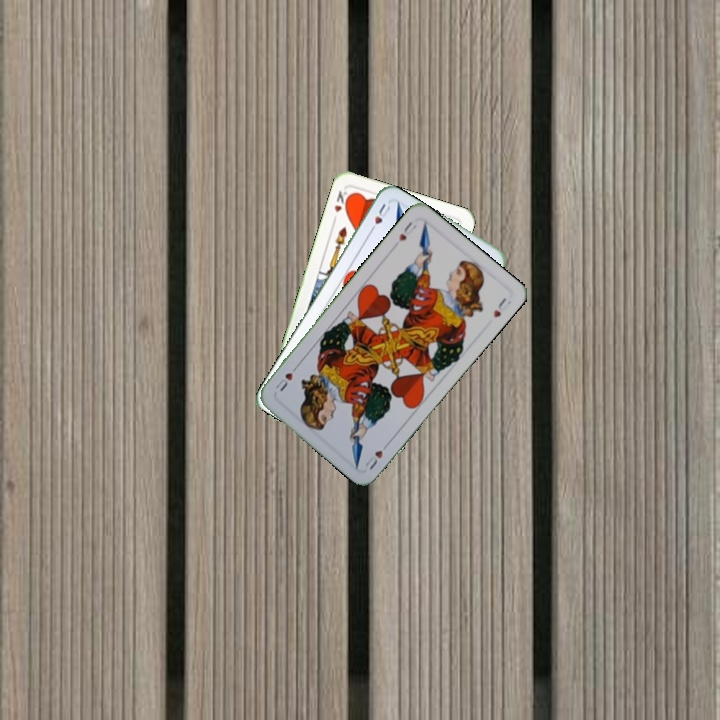HK: (328, 186, 353, 225)
HU: (361, 438, 392, 472), (365, 199, 393, 236), (395, 218, 419, 244)
